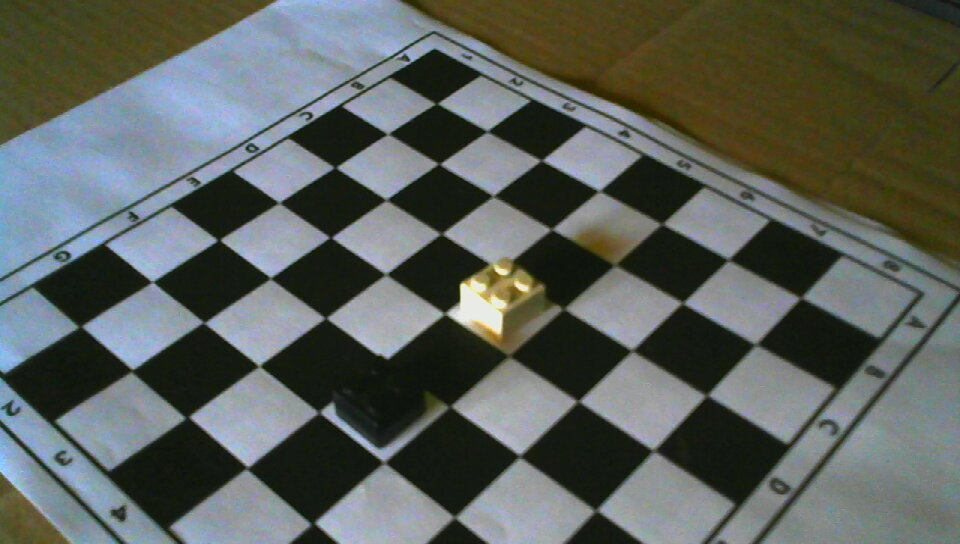bp: (332, 353, 426, 446)
wp: (458, 257, 547, 340)
